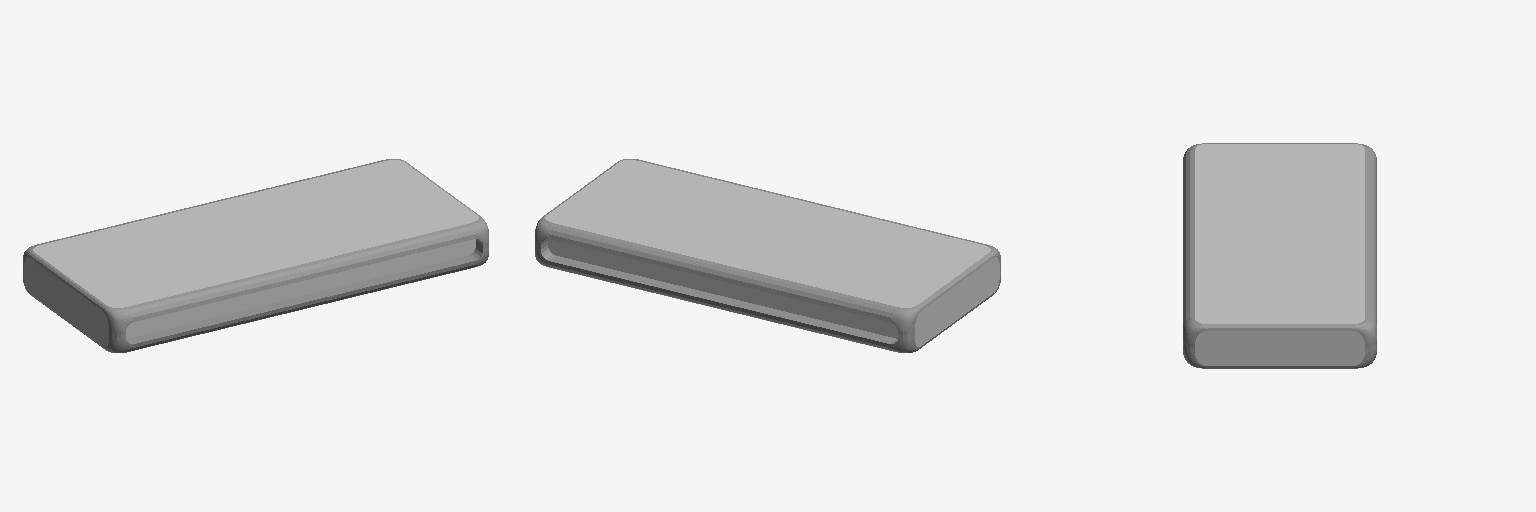
File: thick-normal-long.obj
3 renders of one model, left to right at view 1: azimuth 30°, elevation 25°; view 2: azimuth 150°, elevation 25°; view 3: azimuth 270°, elevation 25°, orthographic.
Visible parts, largest first — view 1: thick-normal-long; view 2: thick-normal-long; view 3: thick-normal-long.
Boxes of the visible parts, x1=… form: thick-normal-long: x1=23, y1=159, x2=488, y2=352; thick-normal-long: x1=535, y1=159, x2=1000, y2=352; thick-normal-long: x1=1183, y1=143, x2=1376, y2=368.
Size of the model in its own units: 9 by 1 by 4.